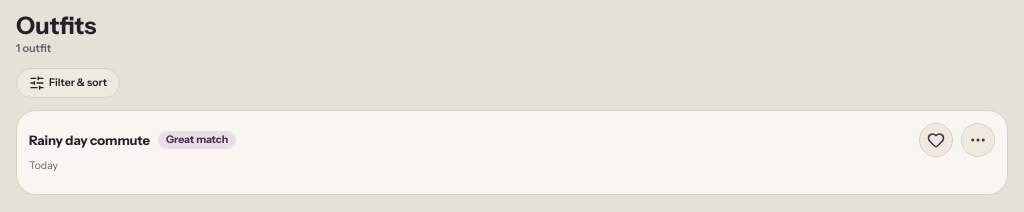
Test: OutfitsGrid › tapping the title switches to an inline input, and Done commits the rename
Click the button "Rainy day commute" at (90, 140), box [29,131,150,149]
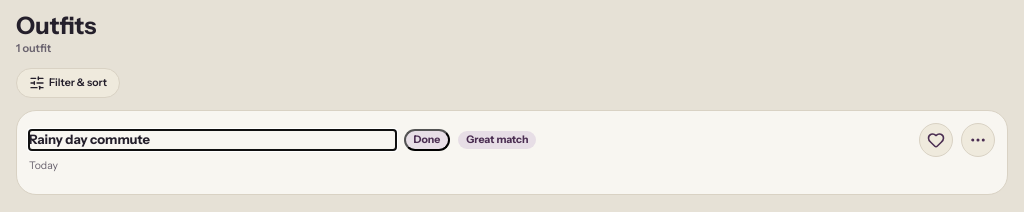
Replace the text in the field named "Outfit title" with "Friday client dinner" at (212, 140), box [29,130,396,150]
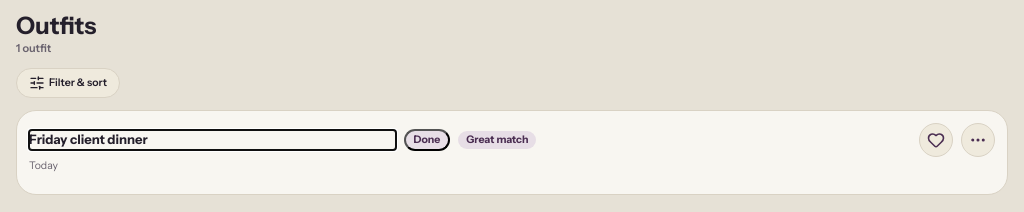
Click the button "Done" at (427, 140), box [404,129,450,151]
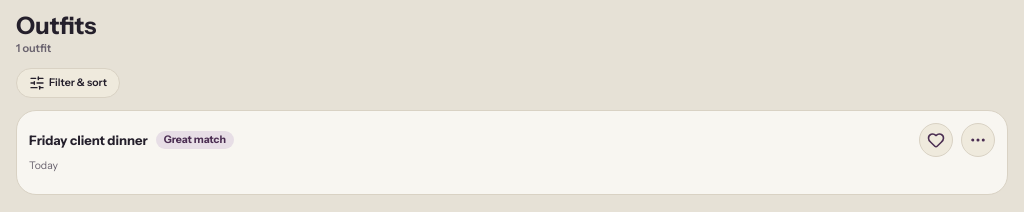
expect the button "Friday client dinner" is shown: met, box [29,131,148,149]
